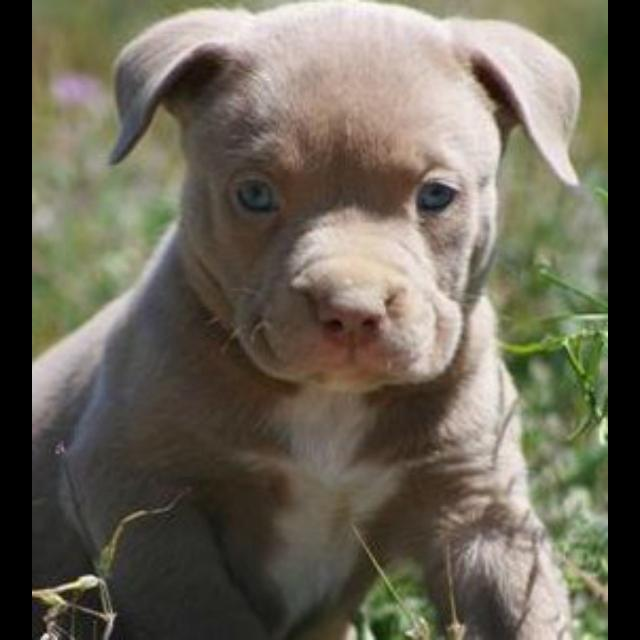am_pit_bull_terrier: (33, 2, 587, 640)
